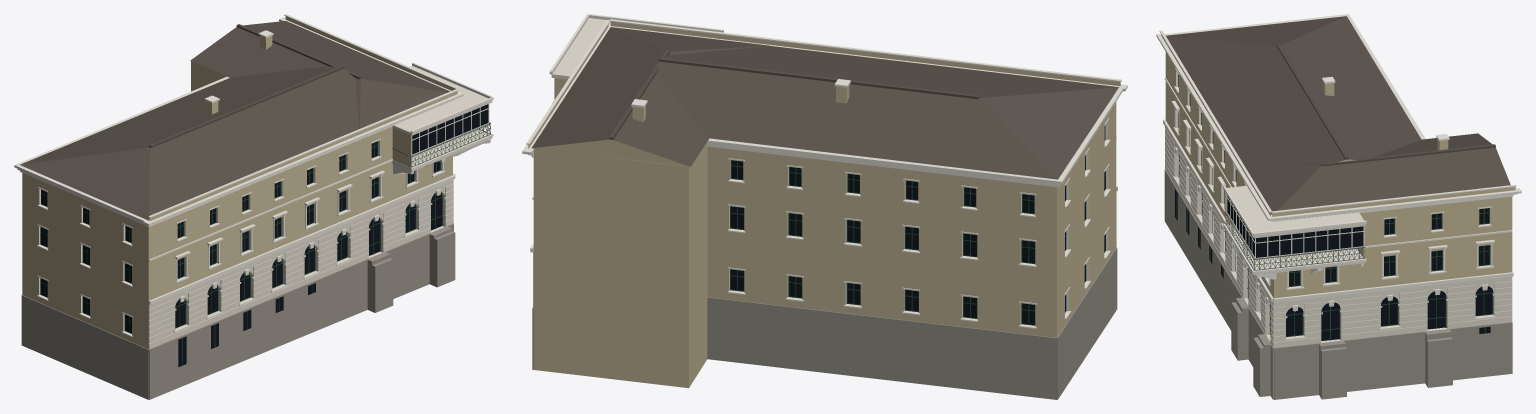
The picture shows the model from 3 angles, left to right: view 1: azimuth 30°, elevation 25°; view 2: azimuth 150°, elevation 25°; view 3: azimuth 270°, elevation 25°; orthographic projection. The views are drawn at different scales.
Visible parts, largest first — view 1: bm32_roof, bm32_wall, bm32_stone, bm32_trim, bm32_wall2, bm32_glass, bm32_wood, bm32_metal; view 2: bm32_wall, bm32_roof, bm32_stone, bm32_trim, bm32_glass, bm32_wood, bm32_wall2; view 3: bm32_roof, bm32_stone, bm32_wall2, bm32_wall, bm32_trim, bm32_glass, bm32_wood, bm32_metal.
Boxes of the visible parts, x1=… form: bm32_roof: x1=20, y1=21, x2=449, y2=220; bm32_wall: x1=22, y1=16, x2=457, y2=349; bm32_stone: x1=21, y1=223, x2=455, y2=399; bm32_trim: x1=14, y1=14, x2=493, y2=336; bm32_wall2: x1=148, y1=66, x2=492, y2=349; bm32_glass: x1=41, y1=104, x2=488, y2=367; bm32_wood: x1=40, y1=141, x2=442, y2=365; bm32_metal: x1=392, y1=122, x2=490, y2=167; bm32_wall: x1=528, y1=22, x2=1120, y2=388; bm32_roof: x1=531, y1=27, x2=1118, y2=179; bm32_stone: x1=532, y1=247, x2=1117, y2=399; bm32_trim: x1=522, y1=14, x2=1127, y2=328; bm32_glass: x1=731, y1=126, x2=1105, y2=324; bm32_wood: x1=730, y1=126, x2=1105, y2=325; bm32_wall2: x1=533, y1=18, x2=1116, y2=307; bm32_roof: x1=1166, y1=16, x2=1510, y2=214; bm32_stone: x1=1164, y1=168, x2=1512, y2=399; bm32_wall2: x1=1165, y1=127, x2=1512, y2=347; bm32_wall: x1=1161, y1=35, x2=1515, y2=298; bm32_trim: x1=1156, y1=14, x2=1521, y2=340; bm32_glass: x1=1175, y1=75, x2=1492, y2=340; bm32_wood: x1=1176, y1=74, x2=1493, y2=340; bm32_metal: x1=1225, y1=212, x2=1365, y2=270.
Bounding box in the file's own units: 39.76 × 18.24 × 28.36.
